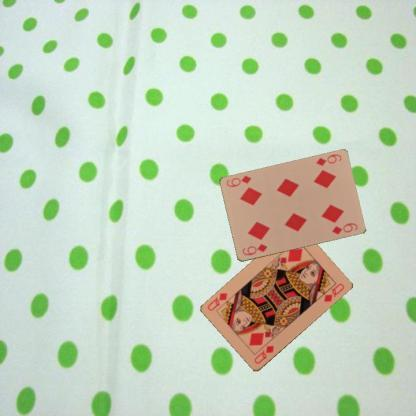6d: (313, 152, 343, 168), (239, 242, 268, 258)
Qd: (251, 343, 275, 365)
